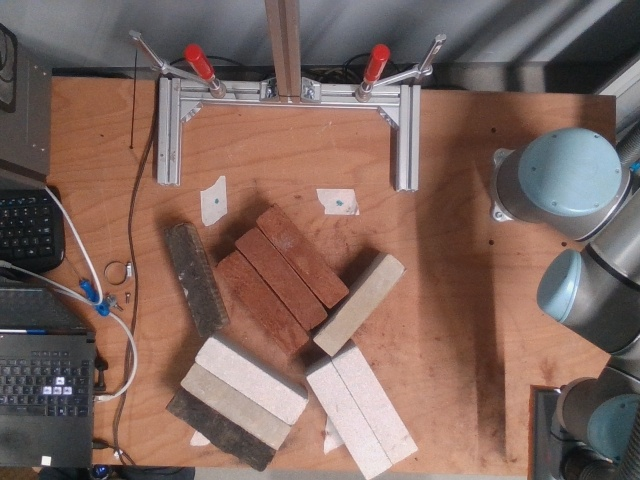brick-side: (217, 253, 307, 354), (236, 229, 326, 329), (255, 207, 345, 306), (307, 365, 387, 476), (198, 341, 303, 424), (181, 367, 286, 447), (335, 350, 412, 459), (169, 392, 271, 470), (317, 259, 400, 353), (166, 230, 217, 331)
